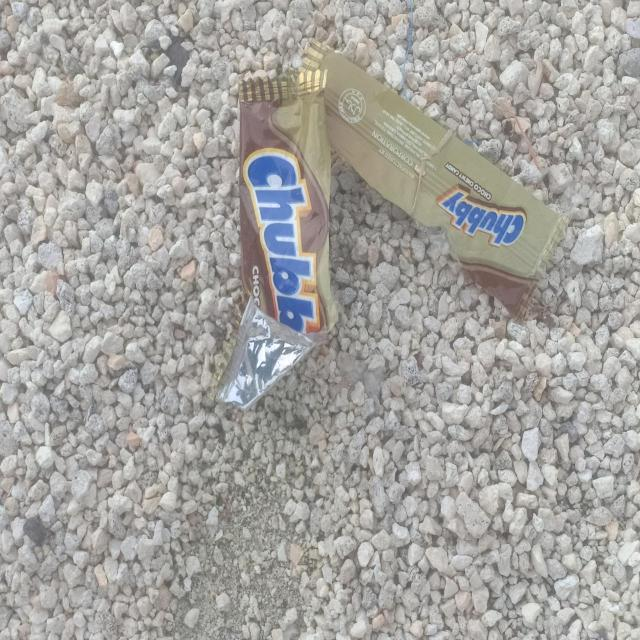plastic_waste: (215, 39, 569, 411)
